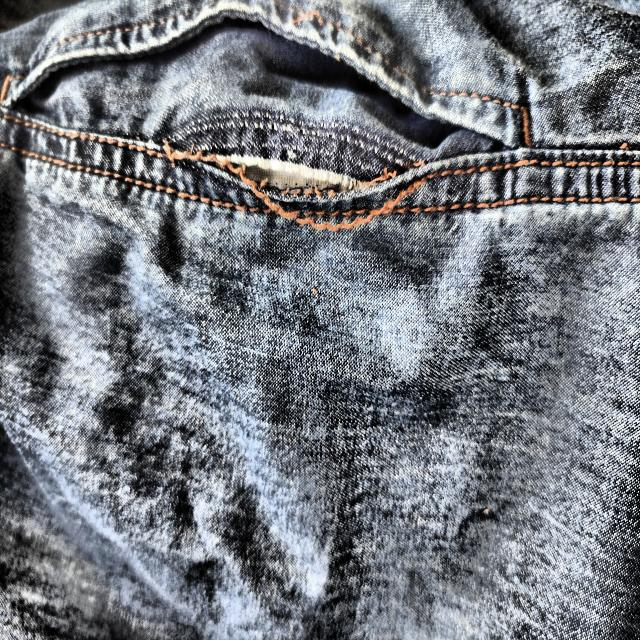seam: (169, 141, 373, 238)
